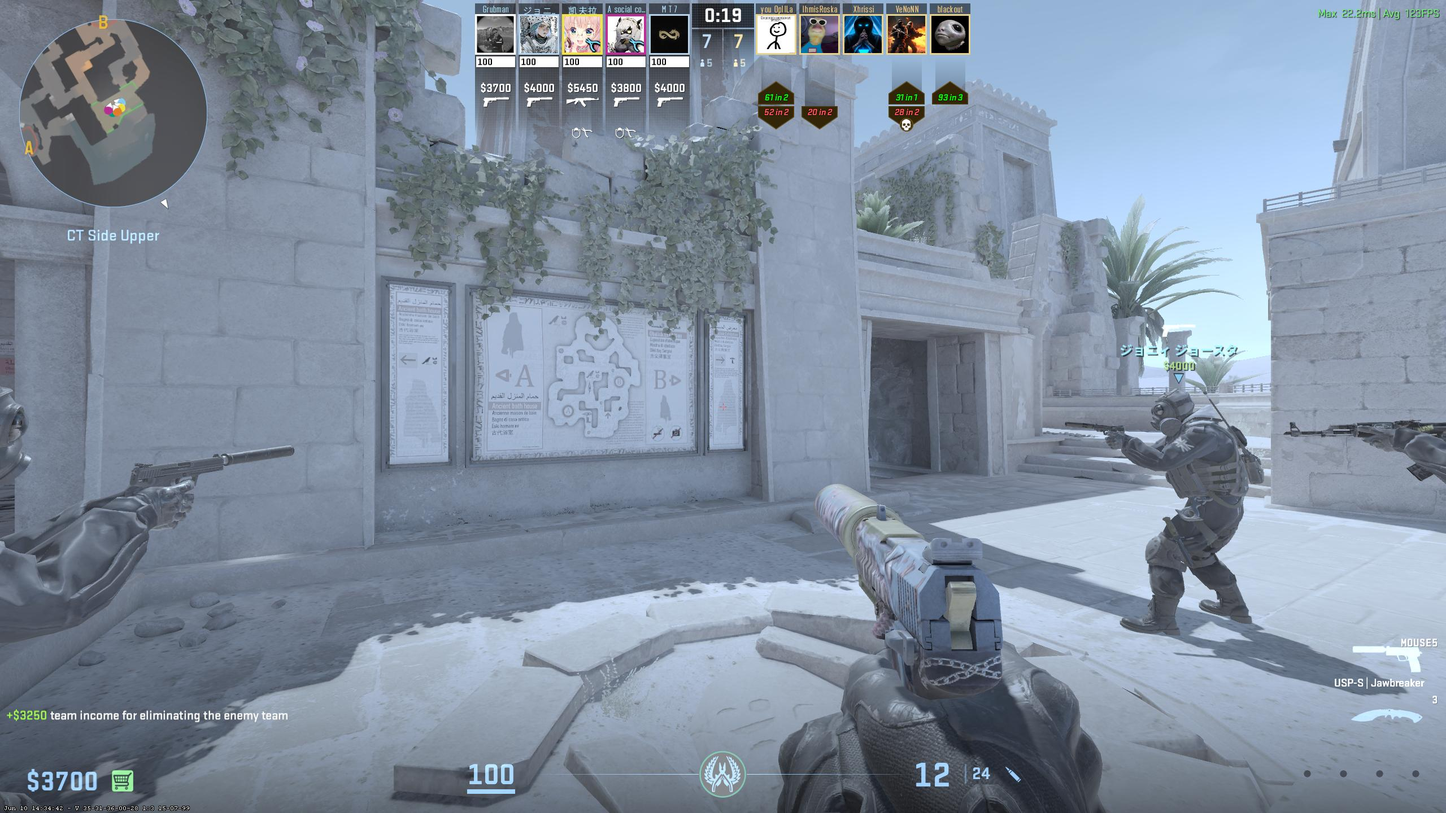CT: (0, 363, 204, 656), (1118, 371, 1263, 652)
